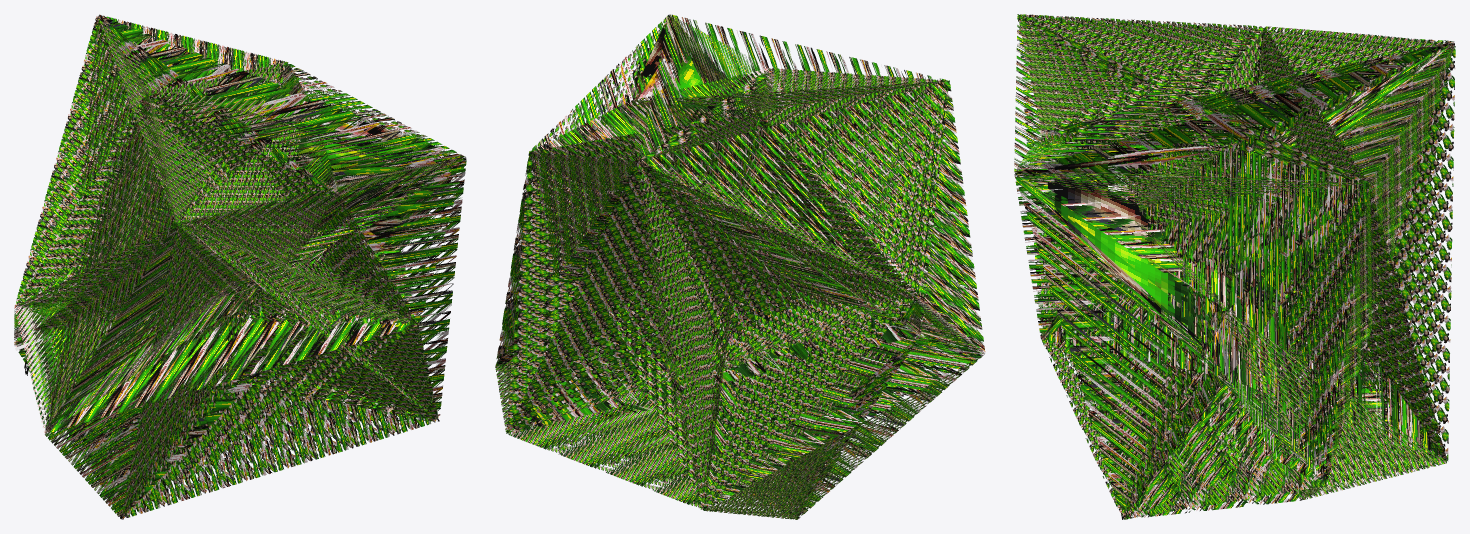
Rendered from assets0E_model_069.obj.
3 views of the same model, side by side, from view 1: azimuth 30°, elevation 25°; view 2: azimuth 150°, elevation 25°; view 3: azimuth 270°, elevation 25° (orthographic). The views are drawn at different scales.
Parts seen in each view (by area): view 1: assets0E_model_069; view 2: assets0E_model_069; view 3: assets0E_model_069.
Part boxes in pixels (left/top/right/bottom): assets0E_model_069: left=14, top=14, right=466, bottom=519; assets0E_model_069: left=495, top=14, right=985, bottom=519; assets0E_model_069: left=1014, top=14, right=1455, bottom=519.
Bounding box in the file's own units: 78.59 × 76.93 × 66.74.
1 material, 1 textured.
